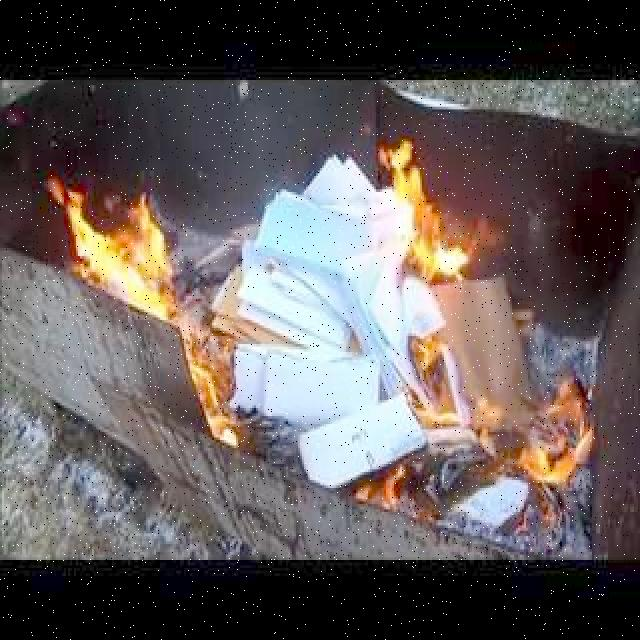fire: (61, 188, 184, 314), (382, 146, 461, 280), (521, 388, 596, 484), (185, 344, 231, 438), (410, 338, 452, 428), (354, 474, 420, 516)
